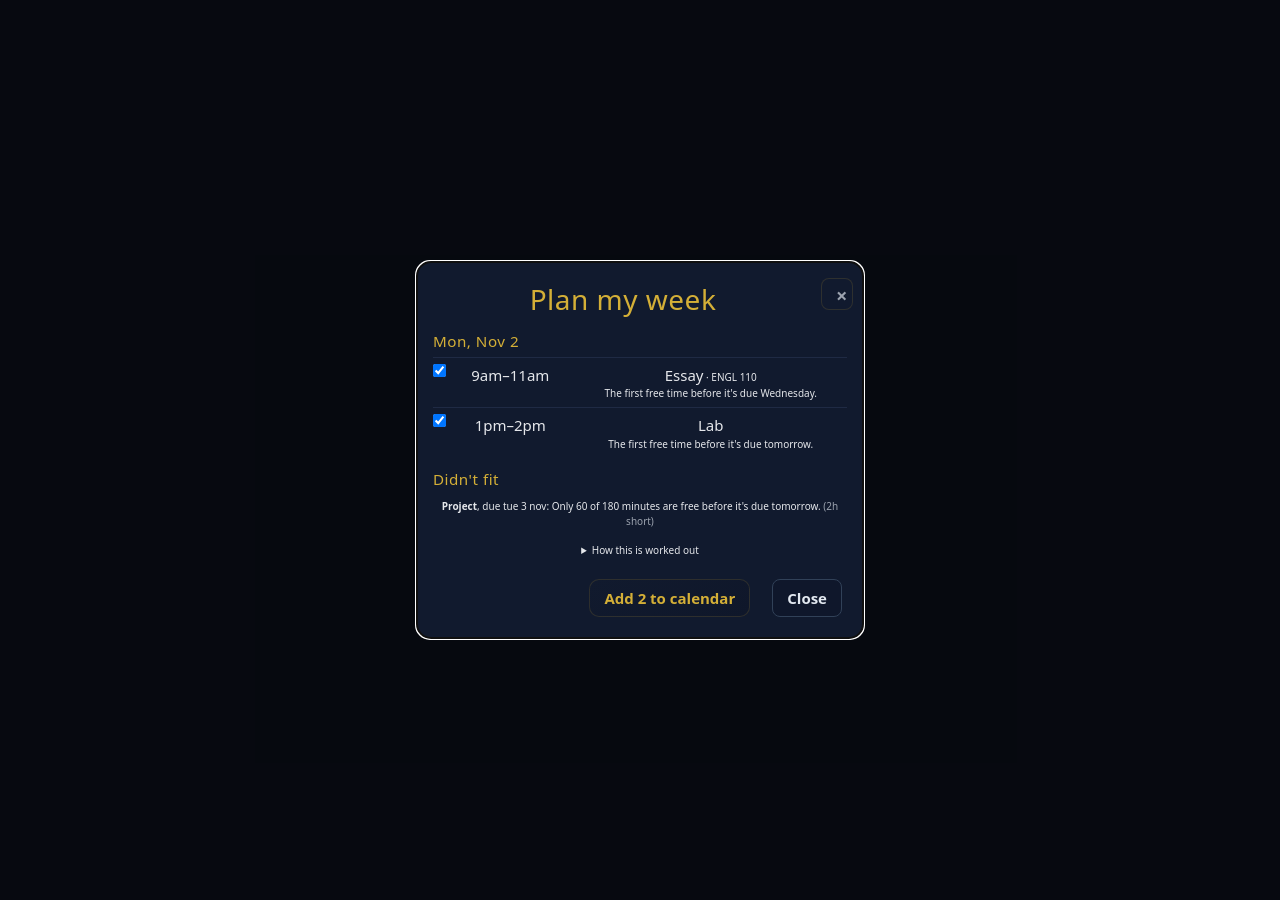
Test case: PlannerModal › adds only the ticked blocks
Click the checkbox named "Add Lab": (440, 421) [433,414,446,427]
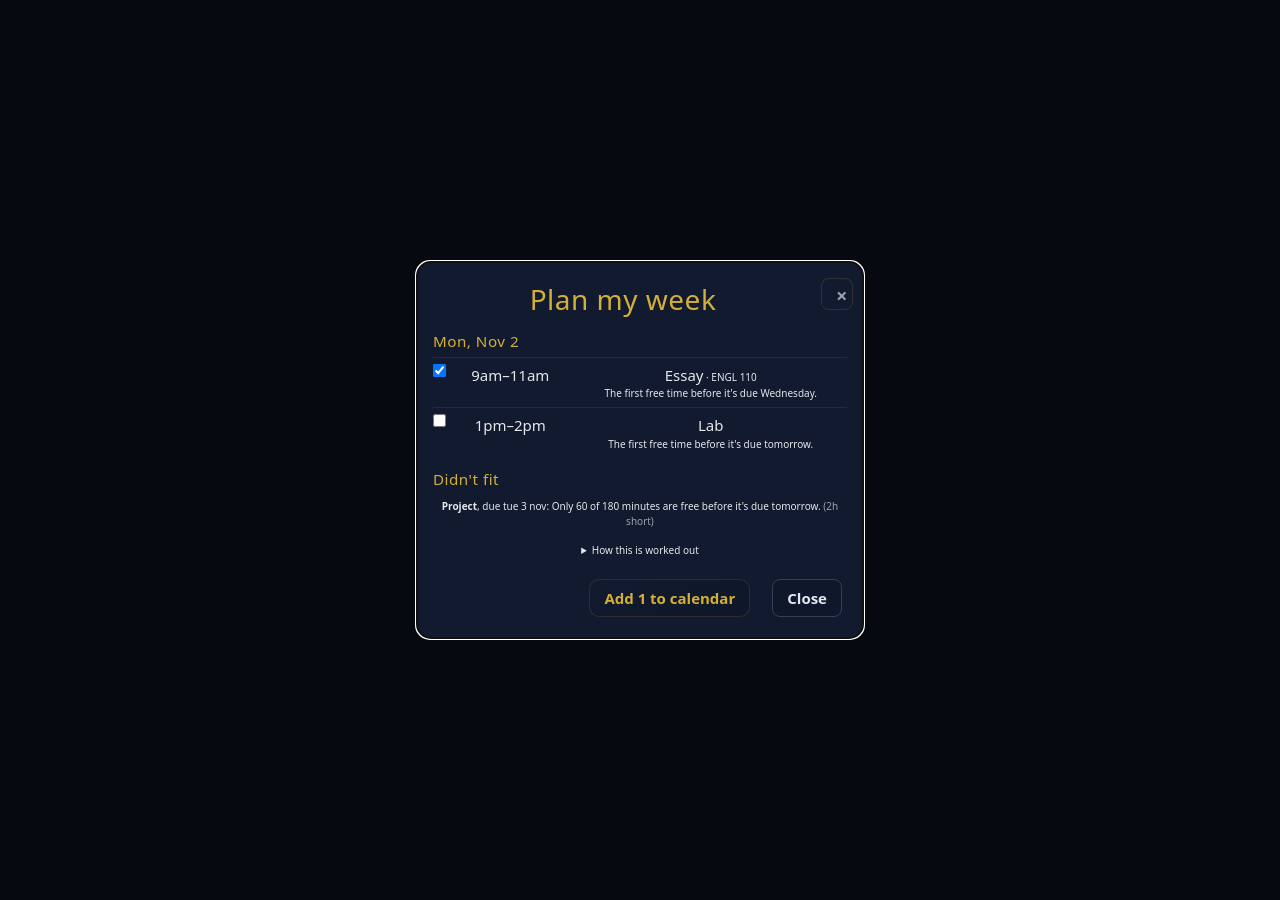
Click the button "Add 1 to calendar": (670, 598) [589,578,750,617]
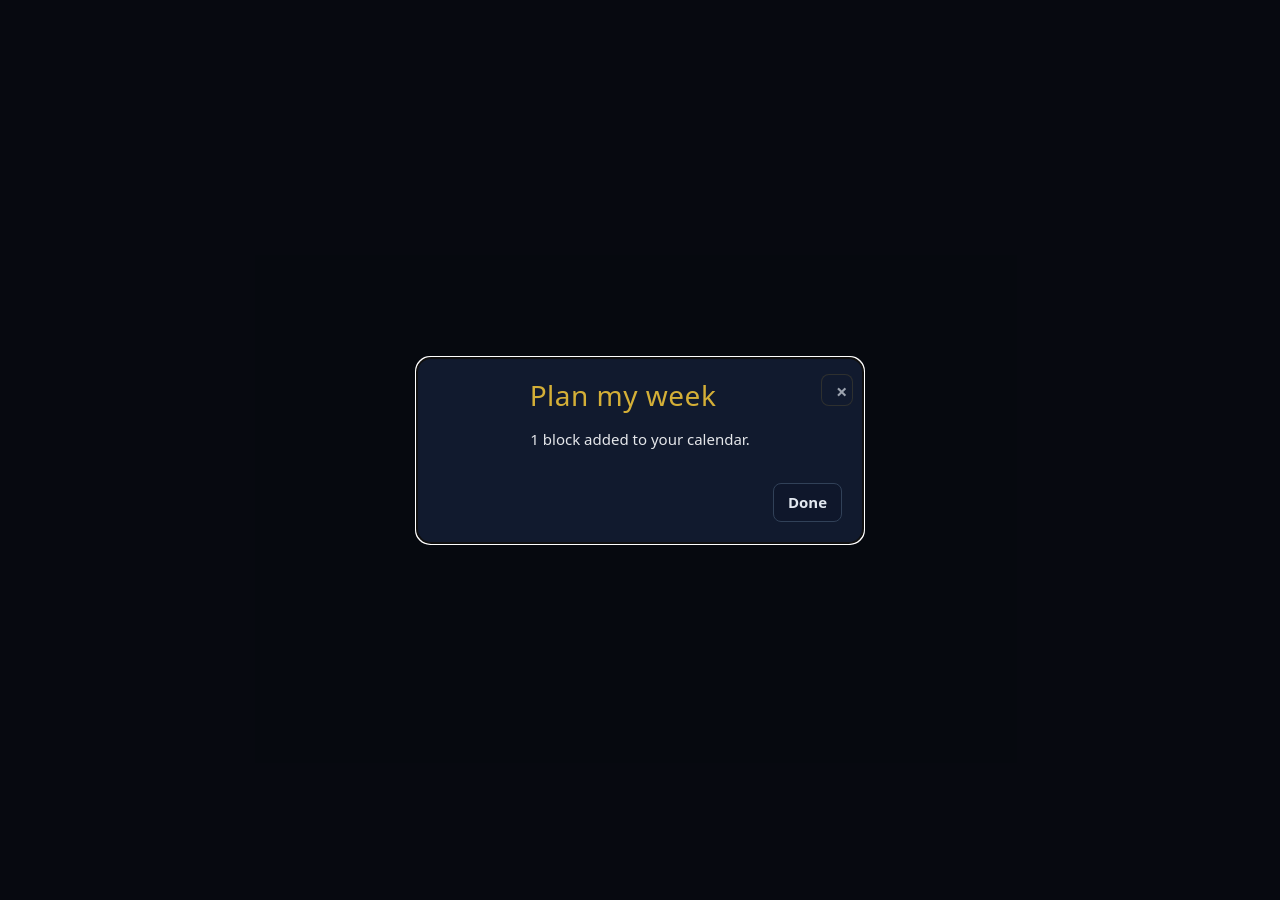
Expected: the text "1 block added to your calendar." is shown, [530,428,750,448]
